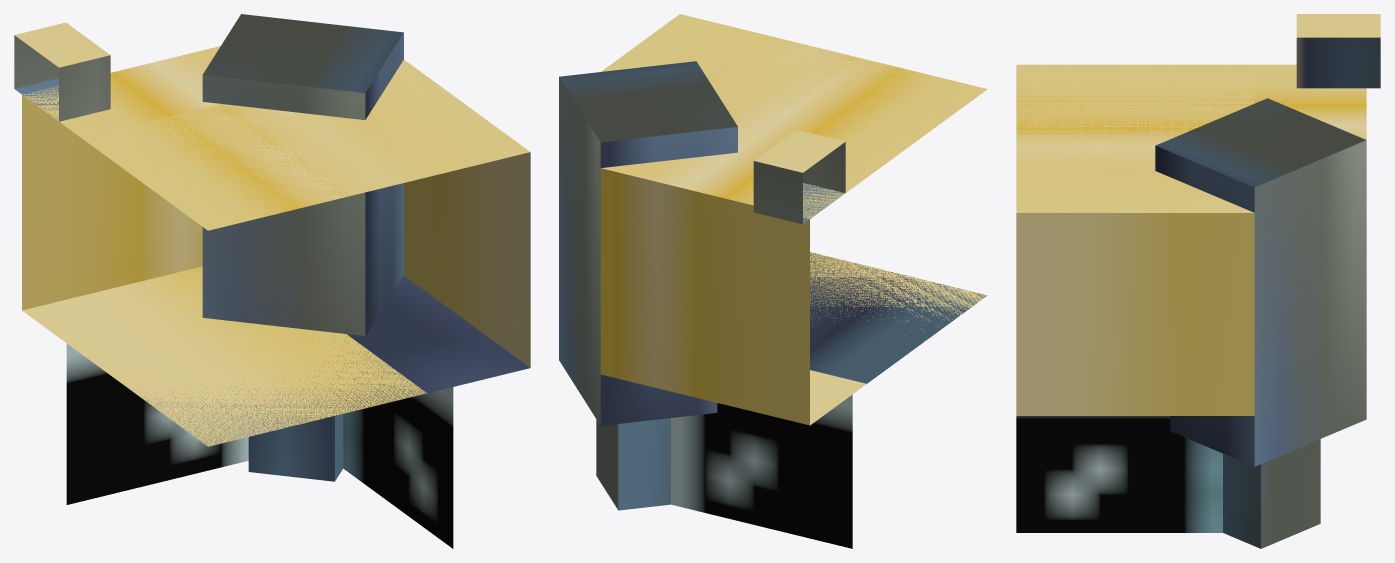
3 renders of one model, left to right at view 1: azimuth 30°, elevation 25°; view 2: azimuth 150°, elevation 25°; view 3: azimuth 270°, elevation 25°, orthographic. The views are drawn at different scales.
Visible parts, largest first — view 1: frame; view 2: frame; view 3: frame.
Boxes of the visible parts, x1,y1,x2,y2 form: frame: [14, 14, 530, 548]; frame: [559, 14, 987, 548]; frame: [1016, 14, 1380, 548].
Bounding box in the file's own units: 0.7812 × 1 × 0.8125.
